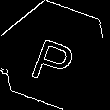P_N: (28, 25, 82, 85)
